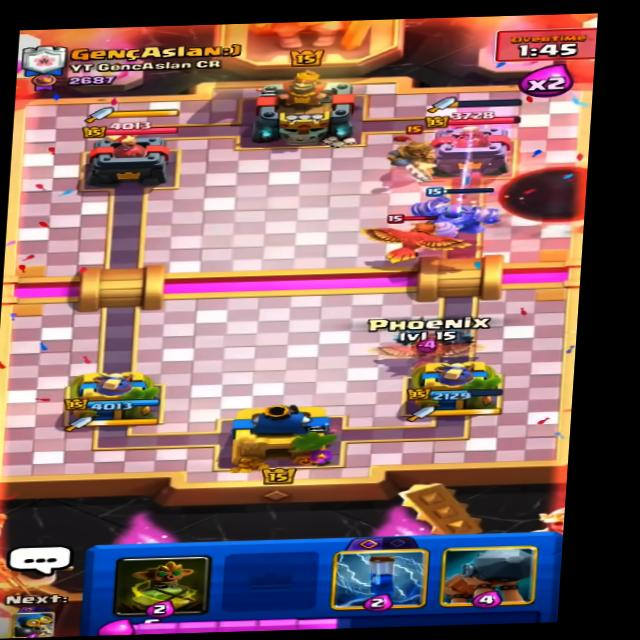phoenix: (352, 205, 472, 261)
prince: (378, 122, 457, 183)
